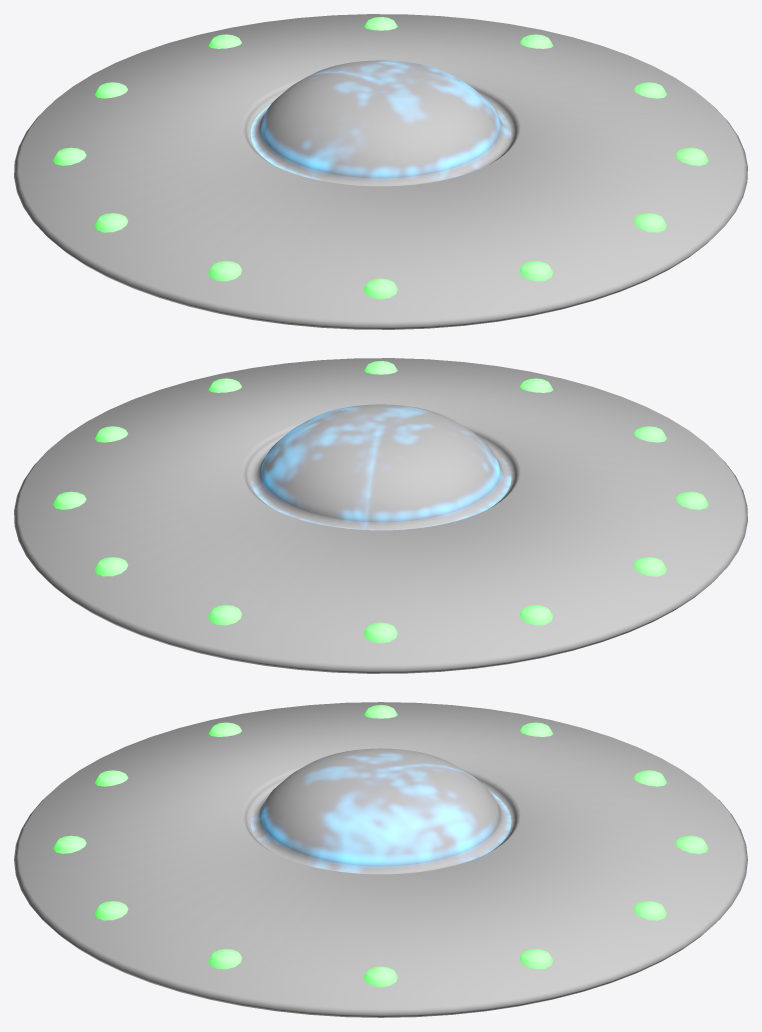
Rendered from ufo.gltf.
3 views of the same model, one above another, from view 1: azimuth 30°, elevation 25°; view 2: azimuth 150°, elevation 25°; view 3: azimuth 270°, elevation 25° (orthographic).
Visible parts, largest first — view 1: ufo_low; view 2: ufo_low; view 3: ufo_low.
Boxes of the visible parts, x1,y1,x2,y2 form: ufo_low: (14,14,747,329); ufo_low: (14,358,747,673); ufo_low: (14,702,747,1017).
Bounding box in the file's own units: 200 × 48.97 × 200.
